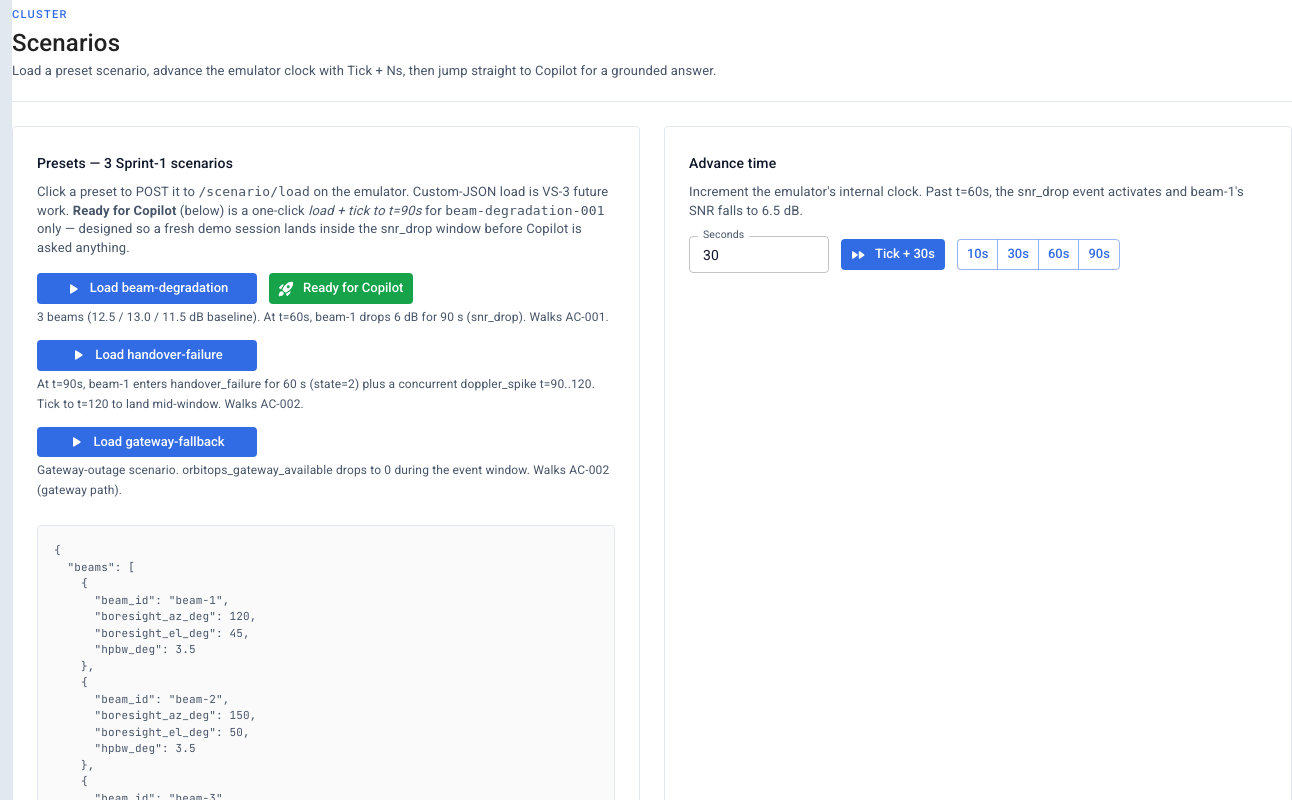
it: Scenarios — Ready for Copilot affordance › on tick failure AFTER load succeeds, error mentions partial state (loaded, t=0)
This screenshot has width=1292, height=800.
What coordinates should you click on to do the following:
click the button "Ready for Copilot"
I would click on:
 (341, 289)
Its box is [269,273,413,304].
(page scrolled)
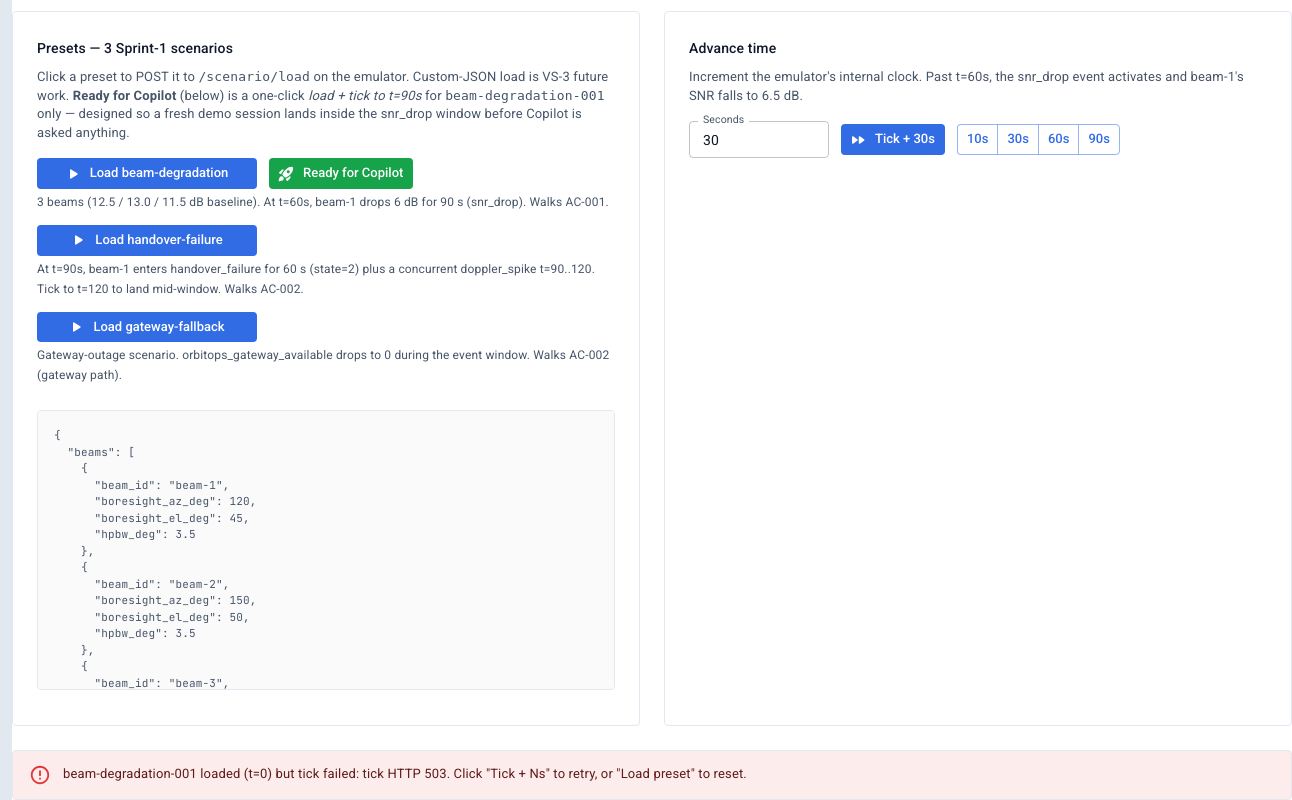
Check: the message shows "beam-degradation-001", box [63,766,747,781]
Check: the message shows "t=0", box [63,766,747,781]
Check: the message shows "tick HTTP 503", box [63,766,747,781]
